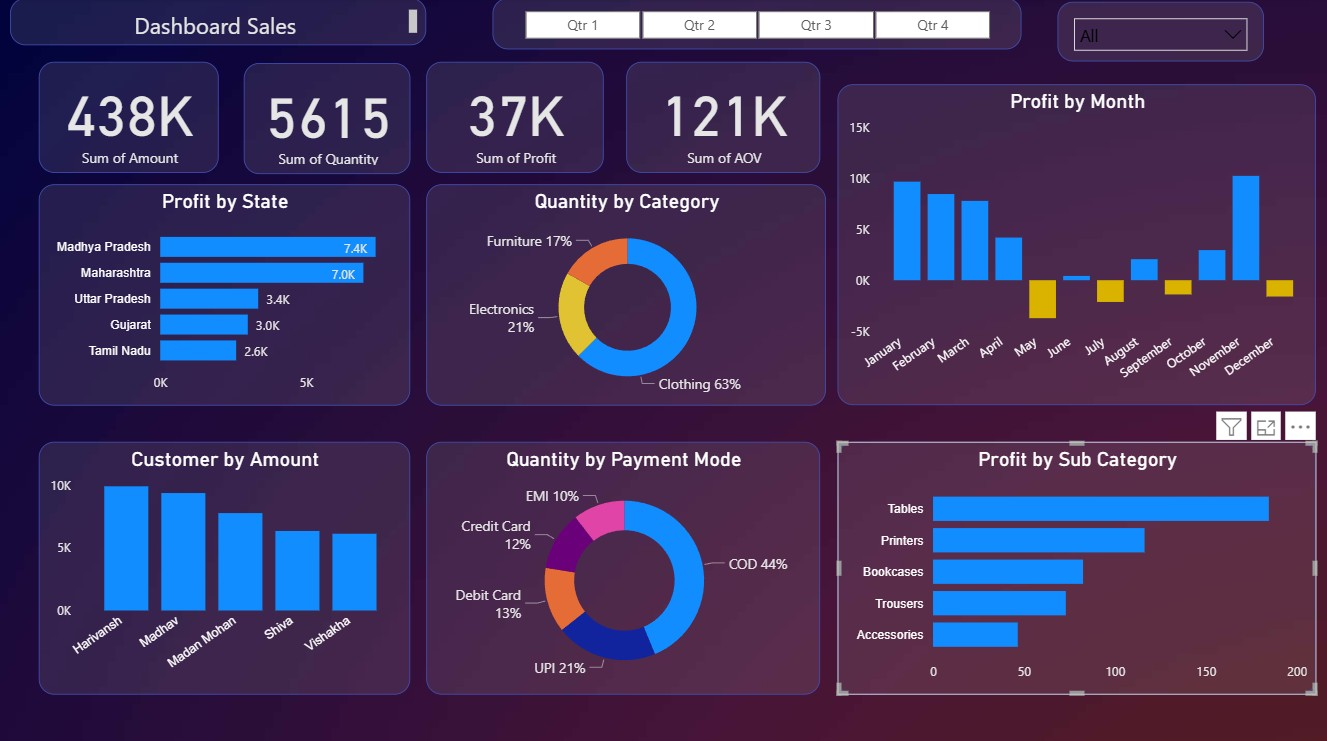

This screenshot's page, from the dashboard's own definition file:
{"tool":"powerbi","page":{"name":"Page 1","canvas":[1280,720],"ordinal":0},"visuals":[{"type":"textbox","box":[9.6,0,401.7,45.2],"z":0},{"type":"clusteredColumnChart","title":"Profit by Month","fields":{"Category":["Orders.Order Date.Variation.Date Hierarchy.Month"],"Y":["Sum(Details.Profit)"]},"box":[808,83.2,461.9,309.9],"z":1000},{"type":"barChart","title":"Profit by Sub Category","fields":{"Category":["Details.Sub-Category"],"Y":["Avg(Details.Profit)"]},"box":[808,428.1,461.9,243.6],"z":2000},{"type":"donutChart","title":"Quantity by Category","fields":{"Category":["Details.Category"],"Y":["Sum(Details.Quantity)"]},"box":[411.3,179.7,385.9,213.5],"z":3000},{"type":"donutChart","title":"Quantity by Payment Mode","fields":{"Category":["Details.PaymentMode"],"Y":["Sum(Details.Quantity)"]},"box":[411.3,428.1,379.9,243.6],"z":4000},{"type":"card","fields":{"Values":["Sum(Details.Amount)"]},"box":[37.4,61.5,173.7,107.3],"z":5000},{"type":"card","fields":{"Values":["Sum(Details.Quantity)"]},"box":[235.2,62.7,160.4,107.3],"z":6000},{"type":"card","fields":{"Values":["Sum(Details.Profit)"]},"box":[411.3,61.5,171.3,107.3],"z":7000},{"type":"card","fields":{"Values":["Sum(Details.AOV)"]},"box":[604.2,61.5,186.9,107.3],"z":8000},{"type":"barChart","title":"Profit by State","fields":{"Category":["Orders.State"],"Y":["Sum(Details.Profit)"]},"box":[37.4,179.7,358.2,213.5],"z":9000},{"type":"clusteredColumnChart","title":"Customer by Amount","fields":{"Category":["Orders.CustomerName"],"Y":["Sum(Details.Amount)"]},"box":[37.4,428.1,358.2,243.6],"z":10000},{"type":"slicer","fields":{"Values":["Orders.Order Date.Variation.Date Hierarchy.Quarter"]},"box":[475.8,0,510,49.4],"z":11000},{"type":"slicer","fields":{"Values":["Orders.State"]},"box":[1020.1,4.1,198.8,57.6],"z":12000}]}

Visuals, with their boxes in screenshot pixels (x1, y1, x2, y2), scaled from the page's 1280x720 canvas onto the 1327x741 screenshot:
textbox: select_region(10, 0, 426, 47)
"Profit by Month" clusteredColumnChart: select_region(838, 86, 1317, 405)
"Profit by Sub Category" barChart: select_region(838, 441, 1317, 691)
"Quantity by Category" donutChart: select_region(426, 185, 826, 405)
"Quantity by Payment Mode" donutChart: select_region(426, 441, 820, 691)
card - Sum(Details.Amount): select_region(39, 63, 219, 174)
card - Sum(Details.Quantity): select_region(244, 65, 410, 175)
card - Sum(Details.Profit): select_region(426, 63, 604, 174)
card - Sum(Details.AOV): select_region(626, 63, 820, 174)
"Profit by State" barChart: select_region(39, 185, 410, 405)
"Customer by Amount" clusteredColumnChart: select_region(39, 441, 410, 691)
slicer - Orders.Order Date.Variation.Date Hierarchy.Quarter: select_region(493, 0, 1022, 51)
slicer - Orders.State: select_region(1058, 4, 1264, 63)
